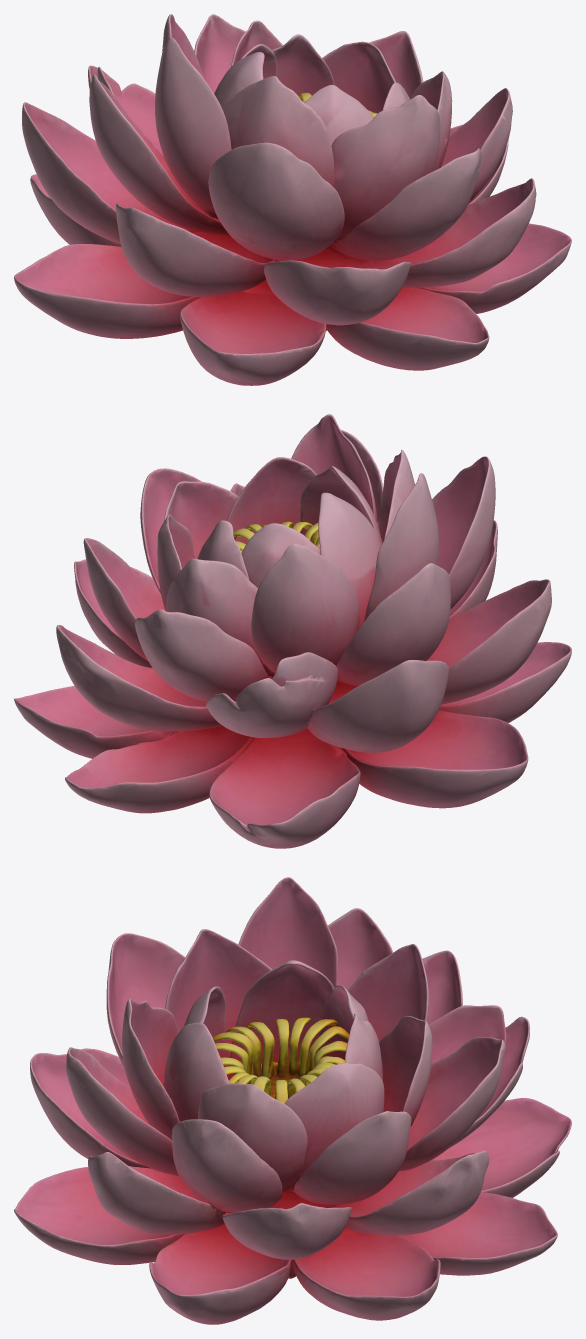
The model's file is pink lotus 3d model_opt.glb.
The picture shows the model from 3 angles, top to bottom: view 1: azimuth 30°, elevation 25°; view 2: azimuth 150°, elevation 25°; view 3: azimuth 270°, elevation 25°; orthographic projection. The views are drawn at different scales.
Parts seen in each view (by area): view 1: tripo_node_30b9e9f2-8d12-4634-813c-84e00b74b5aa; view 2: tripo_node_30b9e9f2-8d12-4634-813c-84e00b74b5aa; view 3: tripo_node_30b9e9f2-8d12-4634-813c-84e00b74b5aa.
Boxes of the visible parts, box(x1,y1,x2,y2) form: tripo_node_30b9e9f2-8d12-4634-813c-84e00b74b5aa: box(14, 14, 571, 385); tripo_node_30b9e9f2-8d12-4634-813c-84e00b74b5aa: box(14, 414, 571, 848); tripo_node_30b9e9f2-8d12-4634-813c-84e00b74b5aa: box(14, 877, 571, 1324).
Bounding box in the file's own units: 0.9907 × 0.6158 × 0.9998.
Materials: 1 (1 with a texture image).
